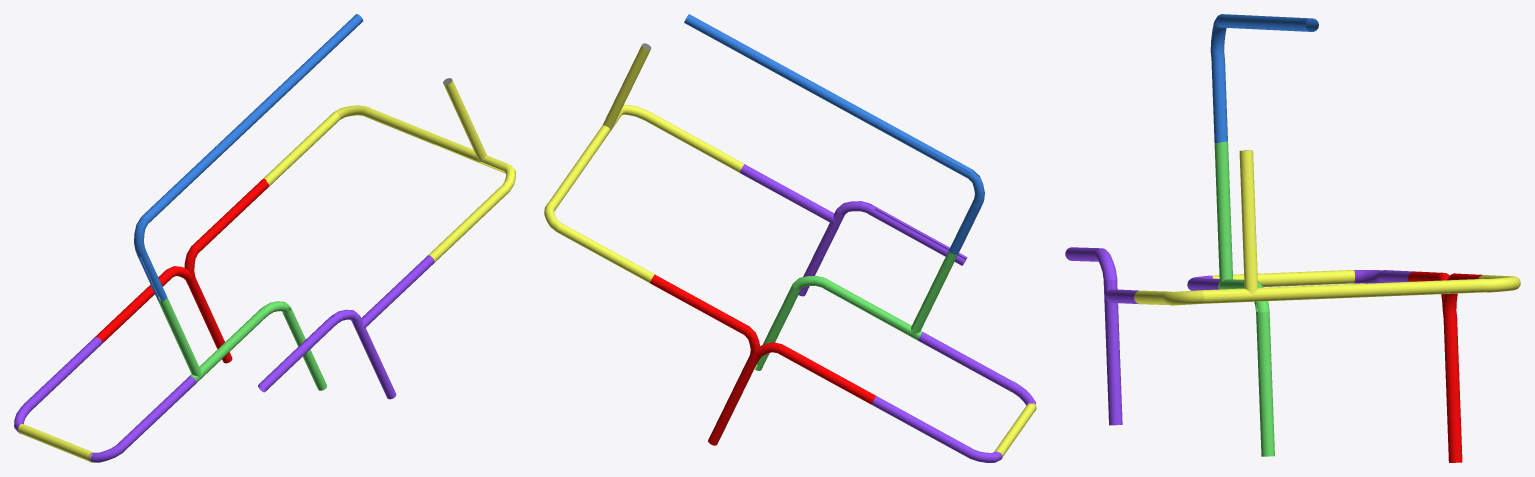
Rendered from pipemaze.obj.
3 views of the same model, side by side, from view 1: azimuth 30°, elevation 25°; view 2: azimuth 150°, elevation 25°; view 3: azimuth 270°, elevation 25° (orthographic). The views are drawn at different scales.
Visible parts, largest first — view 1: polySurface13, pCylinder32 polySurface12, polySurface22, pCylinder32 polySurface10, pCylinder32 polySurface11, polySurface25, polySurface9 pCylinder32; view 2: polySurface13, pCylinder32 polySurface12, polySurface22, pCylinder32 polySurface10, pCylinder32 polySurface11, polySurface25, polySurface9 pCylinder32; view 3: polySurface13, pCylinder32 polySurface11, pCylinder32 polySurface10, pCylinder32 polySurface12, polySurface22, polySurface9 pCylinder32, polySurface25.
Part boxes in pixels (<box>): polySurface13: <box>263,78,515,262</box>; pCylinder32 polySurface12: <box>134,14,363,301</box>; polySurface22: <box>95,178,269,363</box>; pCylinder32 polySurface10: <box>258,255,434,399</box>; pCylinder32 polySurface11: <box>158,297,326,390</box>; polySurface25: <box>14,336,196,462</box>; polySurface9 pCylinder32: <box>17,424,93,462</box>; polySurface13: <box>544,43,743,282</box>; pCylinder32 polySurface12: <box>684,14,984,254</box>; polySurface22: <box>650,274,875,445</box>; pCylinder32 polySurface10: <box>740,164,967,296</box>; pCylinder32 polySurface11: <box>754,250,957,370</box>; polySurface25: <box>871,332,1035,462</box>; polySurface9 pCylinder32: <box>994,403,1036,456</box>; polySurface13: <box>1134,150,1520,305</box>; pCylinder32 polySurface11: <box>1214,141,1274,456</box>; pCylinder32 polySurface10: <box>1065,247,1139,425</box>; pCylinder32 polySurface12: <box>1210,14,1318,142</box>; polySurface22: <box>1408,271,1482,462</box>; polySurface9 pCylinder32: <box>1212,270,1354,287</box>; polySurface25: <box>1187,270,1413,290</box>.
Size of the model in its own units: 23.27 by 18.59 by 15.42.
